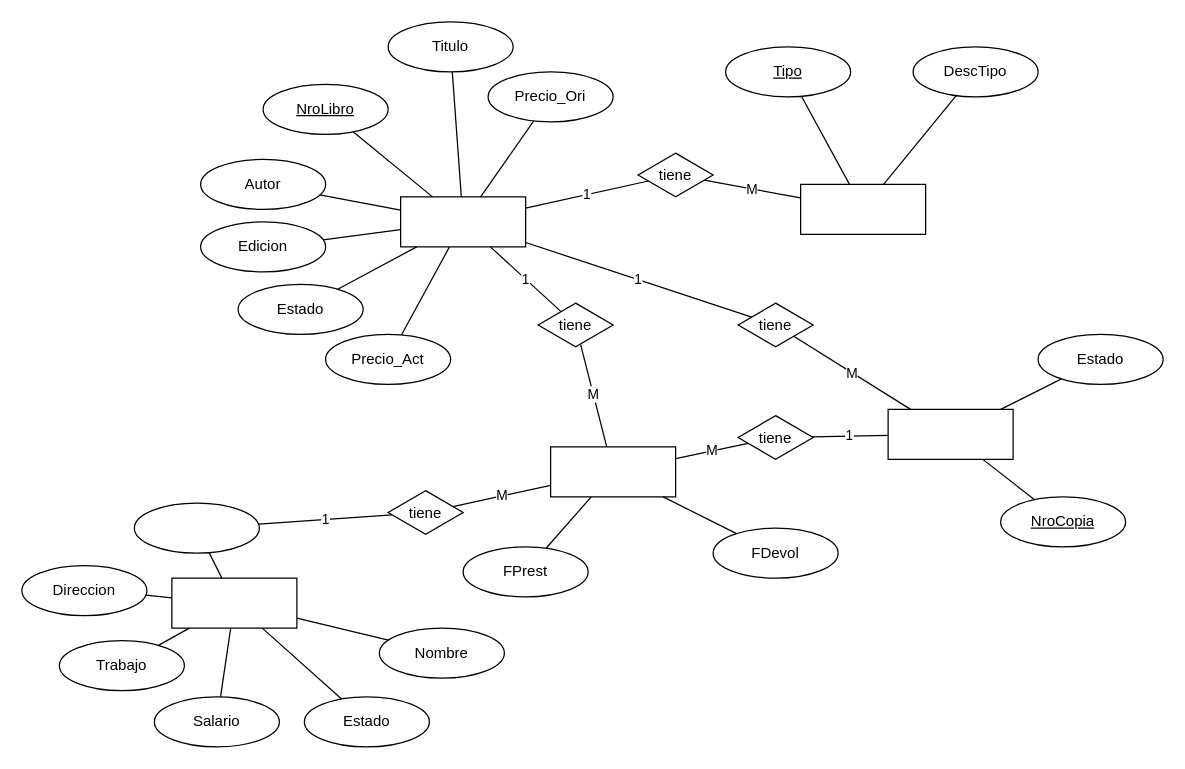
The diagram is 1185 pixels wide and 769 high, and some of its shapes have lost their labels. The shapes that lost their labels are listed below. From the top down, each one's box as (x1, y1, x2, y2) in pixels, then its label:
(399, 196, 526, 247): LIBROS
(799, 183, 926, 234): TIPOS LIBROS
(887, 408, 1013, 459): COPIAS
(549, 446, 676, 497): PRESTAMOS
(133, 502, 259, 553): NroLector
(171, 577, 297, 628): LECTOR
